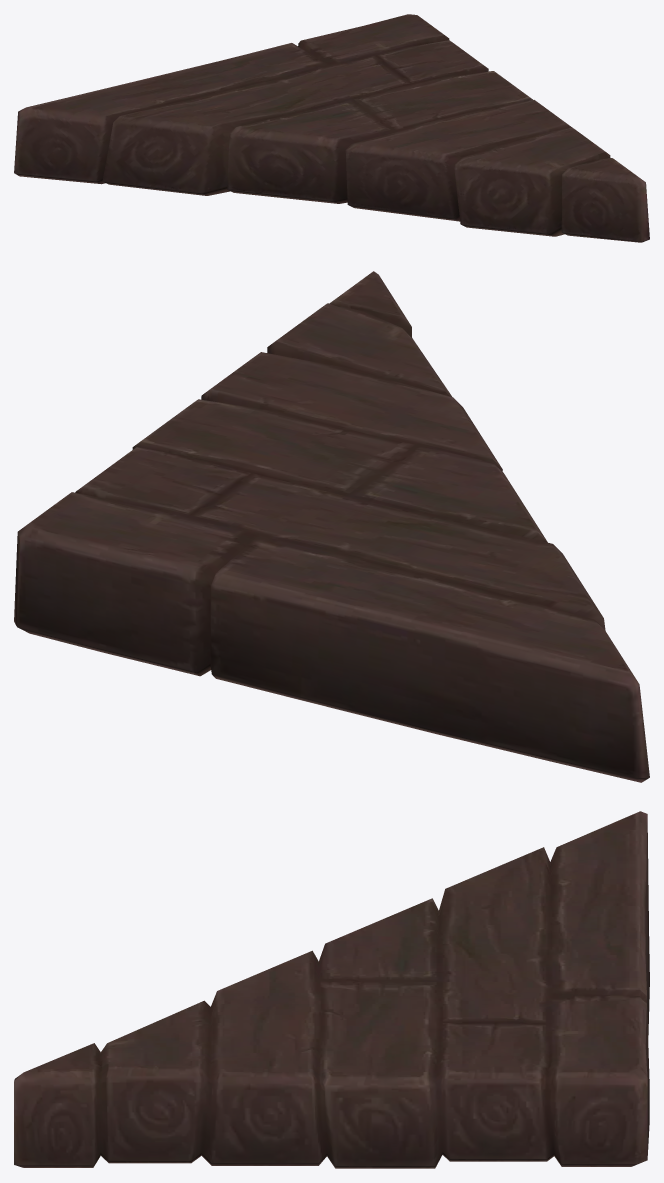
The picture shows the model from 3 angles, top to bottom: view 1: azimuth 30°, elevation 25°; view 2: azimuth 150°, elevation 25°; view 3: azimuth 270°, elevation 25°; orthographic projection. The views are drawn at different scales.
Bounding box in the file's own units: 5.08 × 0.8598 × 4.96.
1 material, 1 textured.
